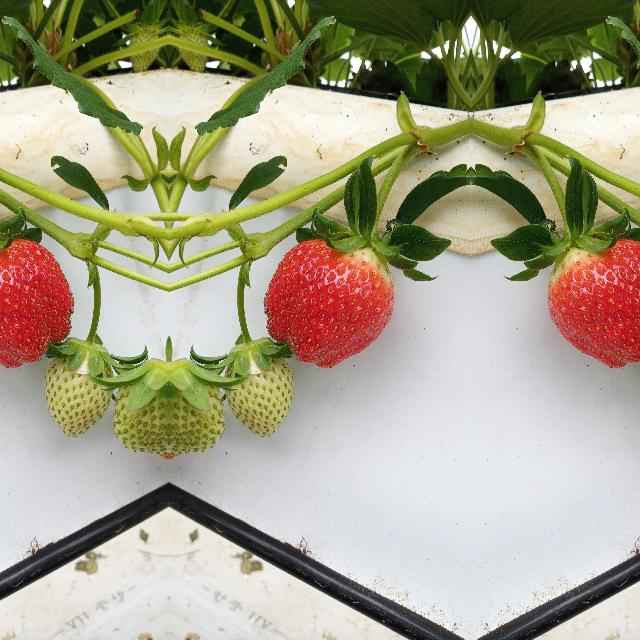Health_100: (262, 237, 394, 367), (547, 237, 640, 367), (0, 237, 74, 367)
Health_25: (216, 343, 294, 435), (42, 343, 120, 435), (168, 351, 224, 454), (112, 351, 168, 454)
